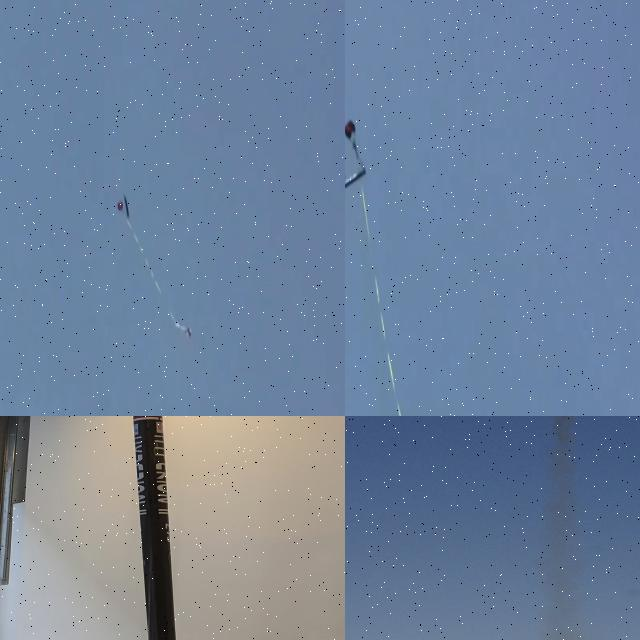Rocket: (133, 416, 176, 640), (175, 322, 192, 337)
